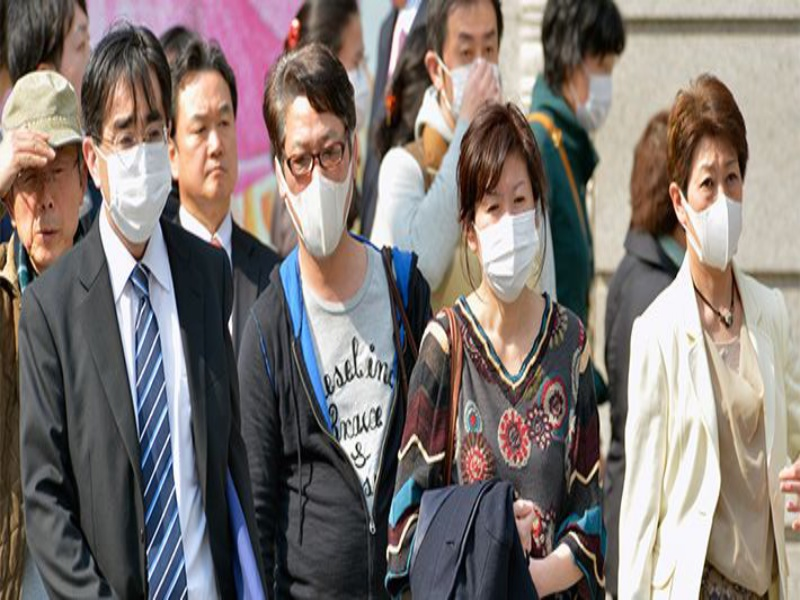ManaoArotava: (76, 46, 185, 266), (258, 57, 364, 270), (455, 124, 566, 317), (661, 88, 766, 284), (538, 9, 635, 148)
TsisyArotava: (2, 91, 101, 291), (153, 49, 250, 211)
